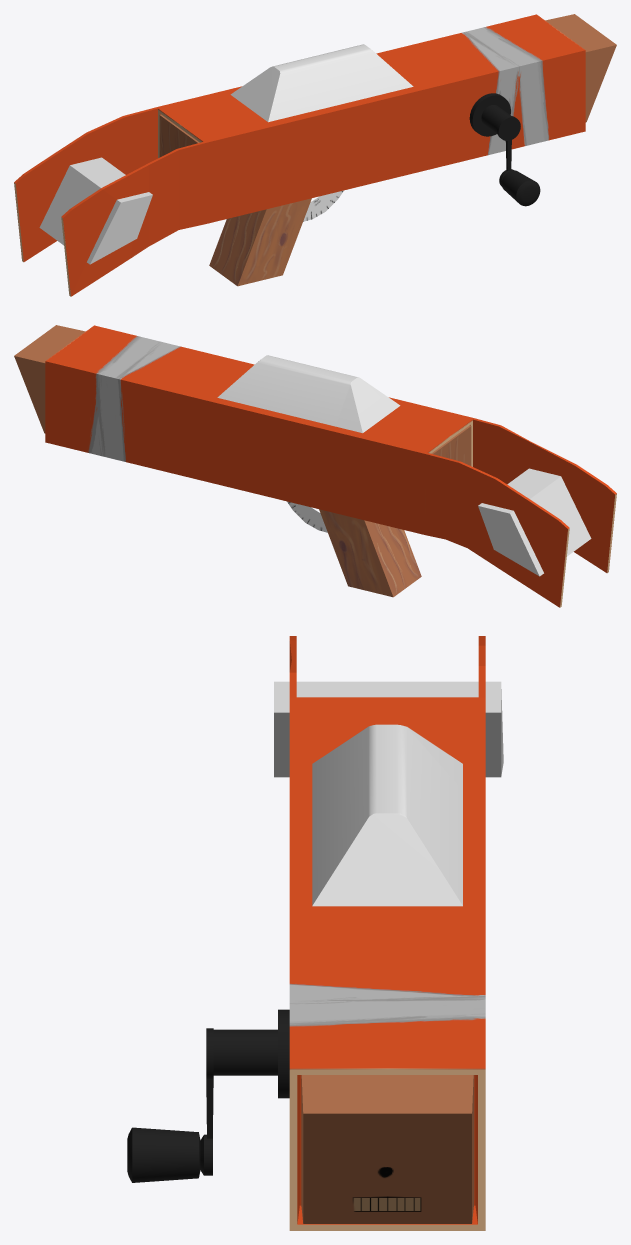
The picture shows the model from 3 angles, top to bottom: view 1: azimuth 30°, elevation 25°; view 2: azimuth 150°, elevation 25°; view 3: azimuth 270°, elevation 25°; orthographic projection. The views are drawn at different scales.
Parts seen in each view (by area): view 1: Gun Base, Pencil Case, WoodHandle, Cube, Spinner, Round Ruler; view 2: Gun Base, Pencil Case, WoodHandle, Cube, Round Ruler; view 3: Gun Base, Pencil Case, Spinner, Cube.
Part boxes in pixels (<box>): Gun Base: <box>14,14,616,296</box>; Pencil Case: <box>230,44,413,122</box>; WoodHandle: <box>209,198,311,286</box>; Cube: <box>39,157,152,264</box>; Spinner: <box>469,93,540,206</box>; Round Ruler: <box>303,190,343,221</box>; Gun Base: <box>14,325,616,607</box>; Pencil Case: <box>217,355,400,433</box>; WoodHandle: <box>319,509,421,597</box>; Cube: <box>478,468,591,576</box>; Round Ruler: <box>287,501,327,532</box>; Gun Base: <box>289,636,485,1230</box>; Pencil Case: <box>312,724,462,906</box>; Spinner: <box>127,1009,289,1182</box>; Cube: <box>274,681,503,777</box>.
Bounding box in the file's own units: 106 × 35.23 × 30.92.
6 materials, 3 textured.
